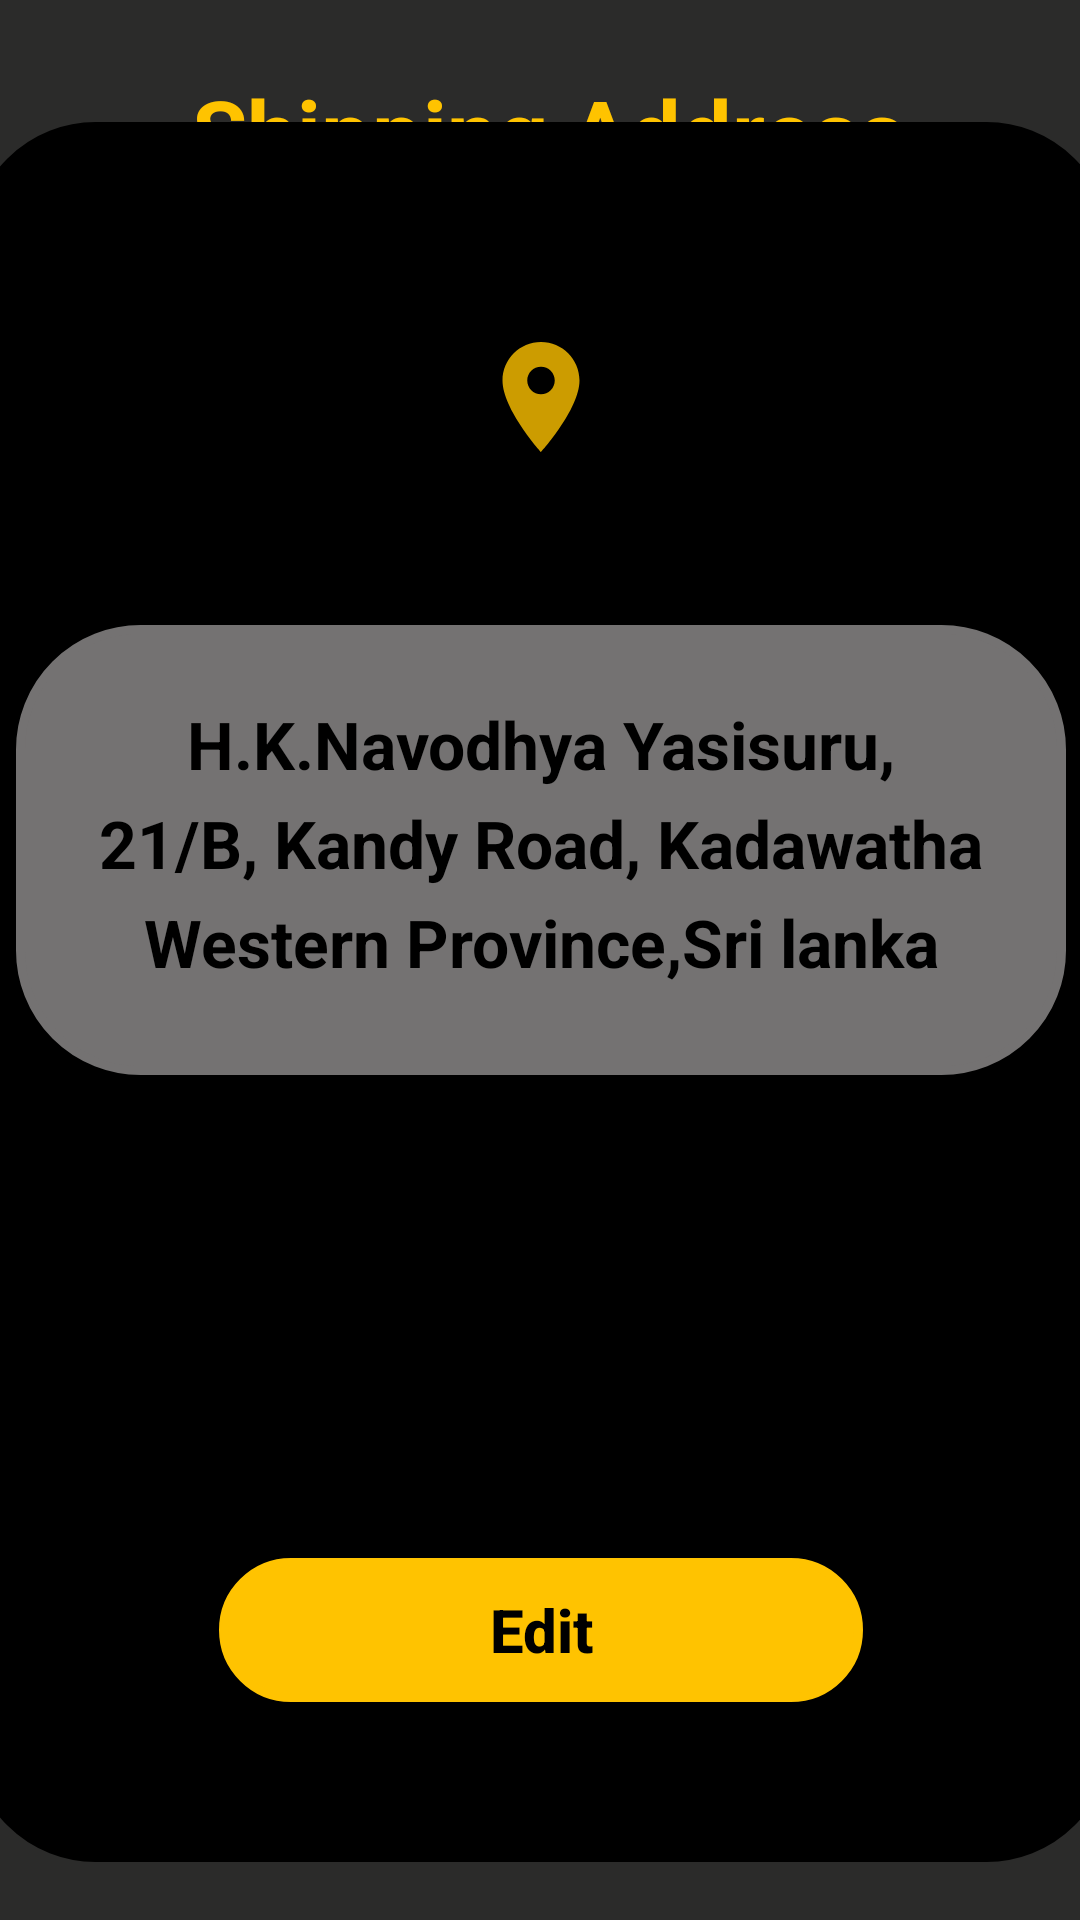

Named icons in this screenshot (1080×1920) and their bounding boxes, (x1, y1, x2, y2):
location: (502, 342, 580, 452)
